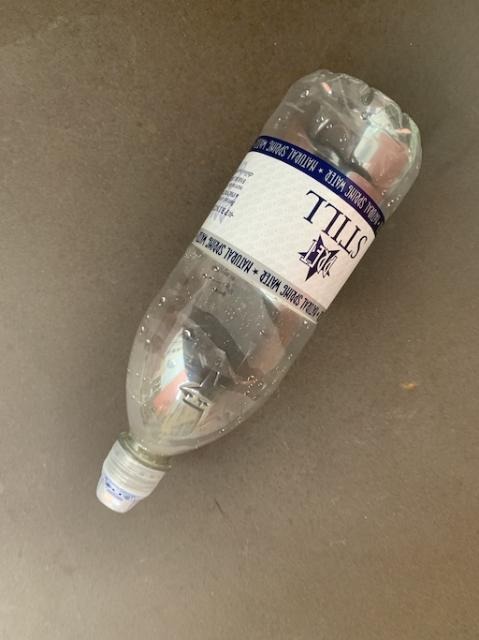plastic: (96, 69, 420, 511)
